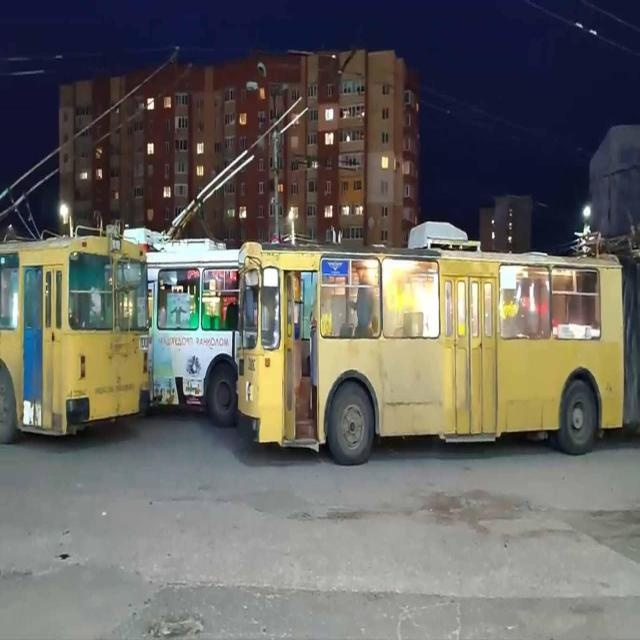Bus: (235, 235, 640, 462), (1, 227, 149, 443)
